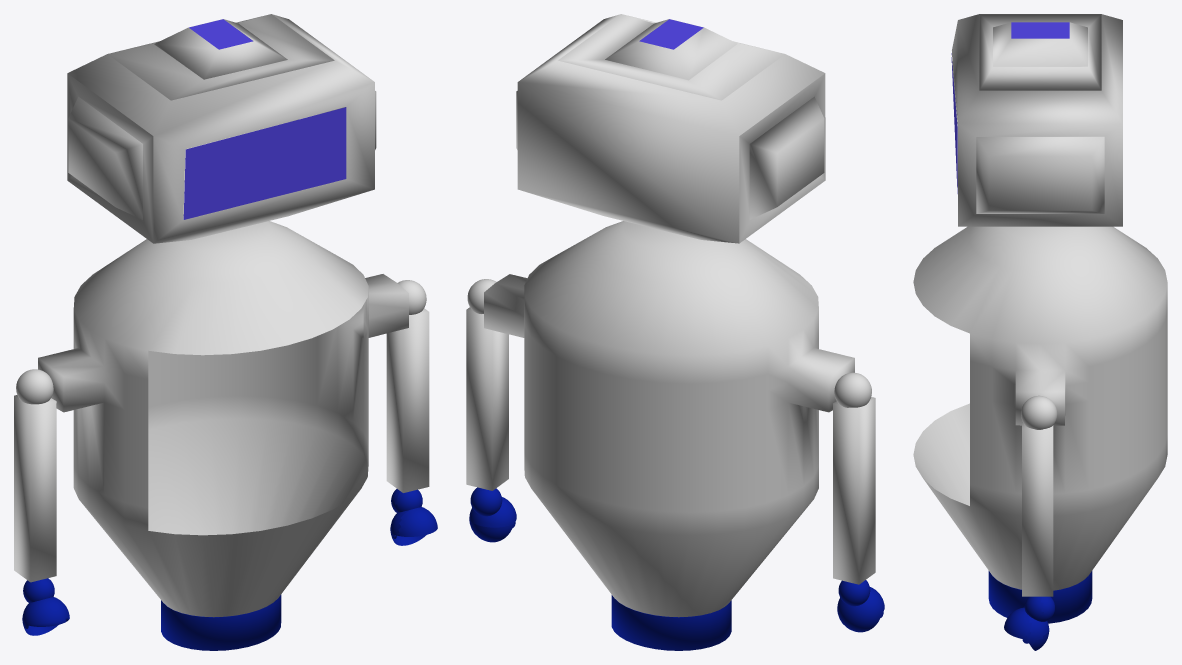
File: robotUnido.fbx
3 views of the same model, side by side, from view 1: azimuth 30°, elevation 25°; view 2: azimuth 150°, elevation 25°; view 3: azimuth 270°, elevation 25° (orthographic). The views are drawn at different scales.
Visible parts, largest first — view 1: robot; view 2: robot; view 3: robot.
Part boxes in pixels (bbox=[...]): robot: bbox=[14, 14, 437, 650]; robot: bbox=[466, 14, 884, 650]; robot: bbox=[913, 14, 1167, 650].
Size of the model in its own units: 630 by 873 by 354.
